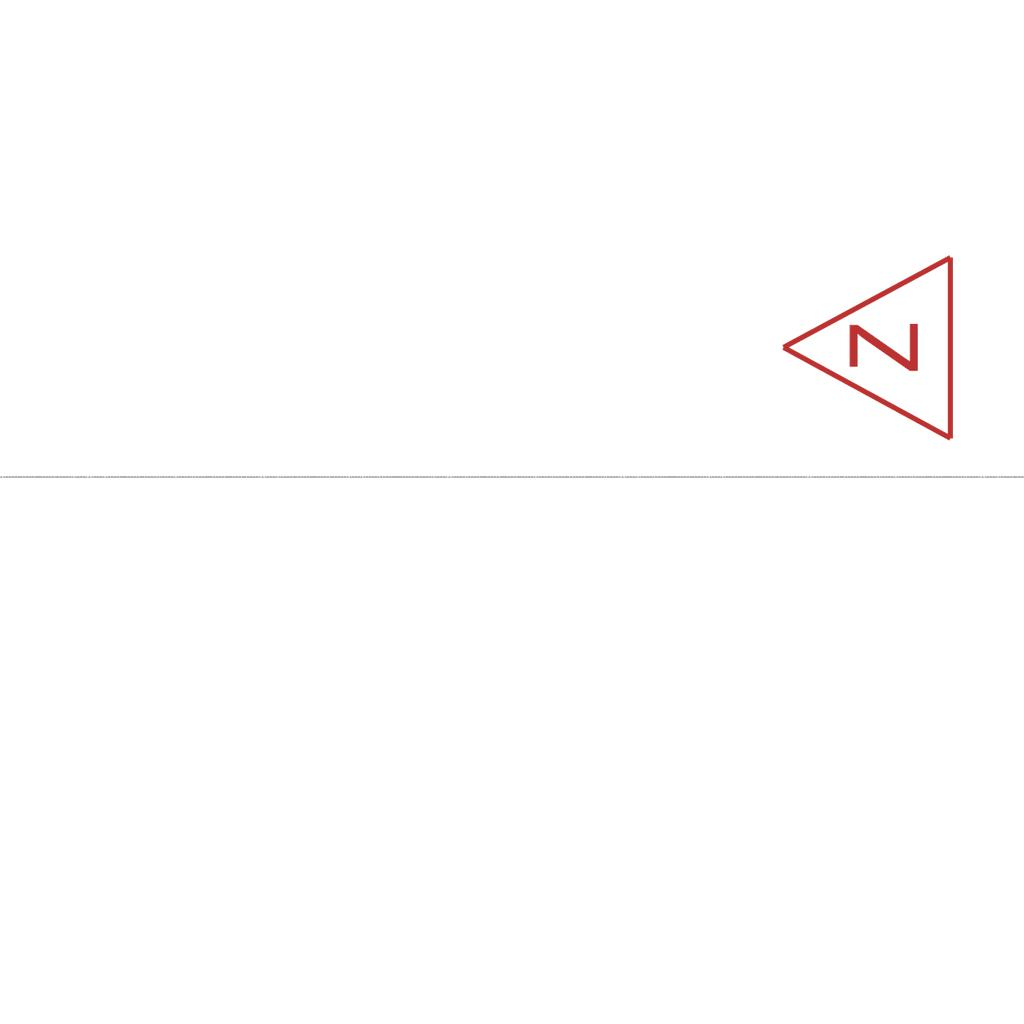Zimmersignalleuchte: (768, 252, 968, 448)
